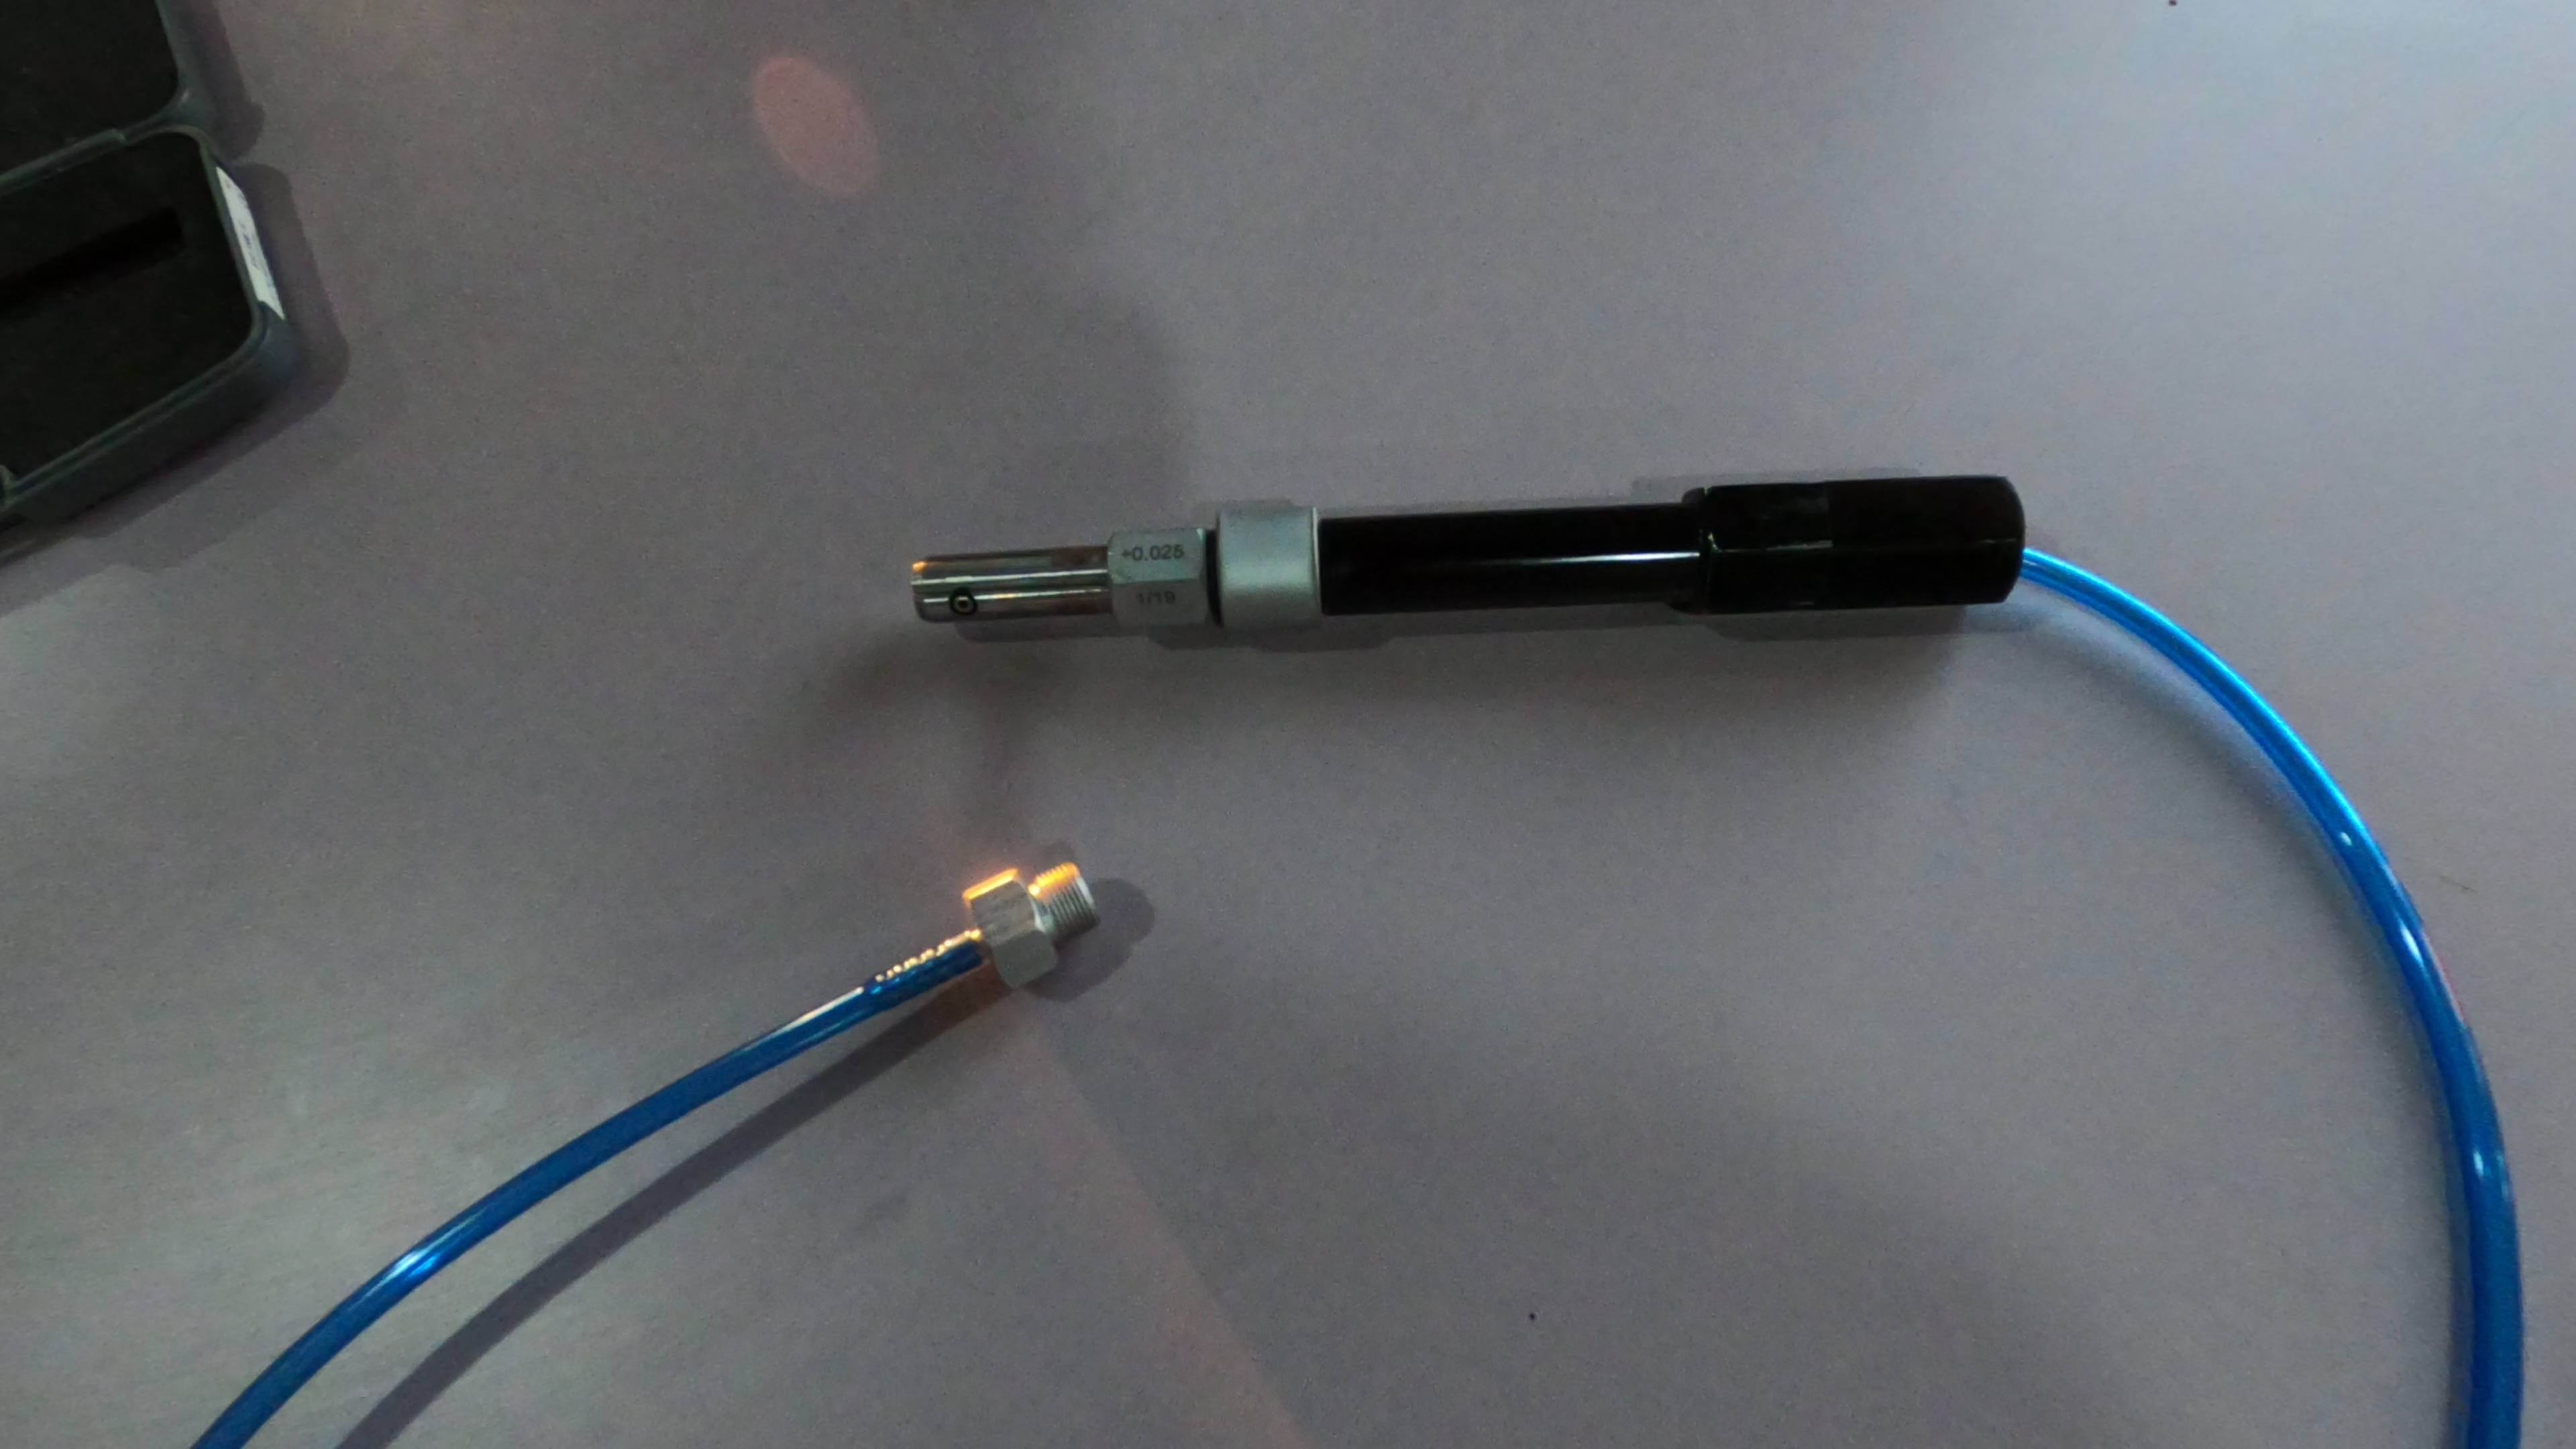air_gauge: (911, 460, 2029, 642)
